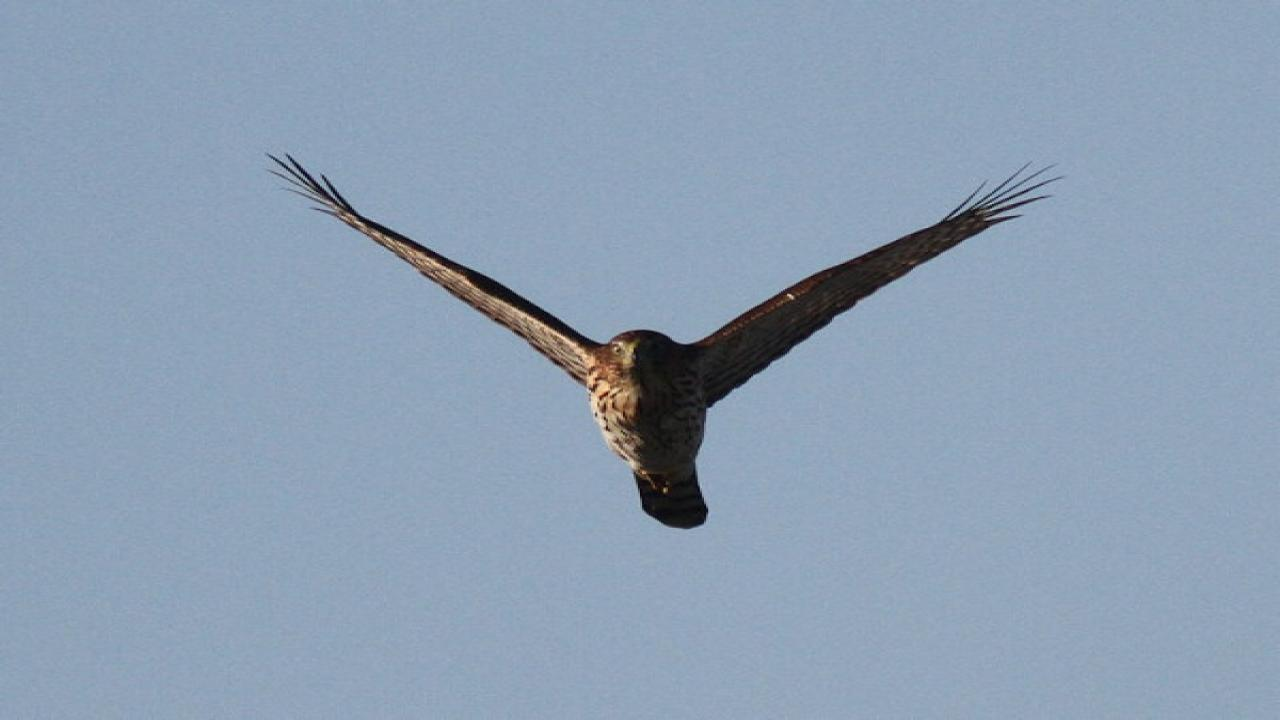Bird: (248, 142, 1076, 535)
